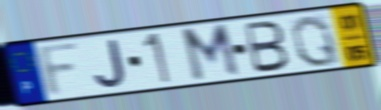1: (141, 31, 172, 86)
B: (242, 19, 292, 75)
F: (36, 39, 83, 100)
J: (92, 37, 129, 90)
M: (178, 21, 243, 85)
Q: (289, 13, 342, 69)
